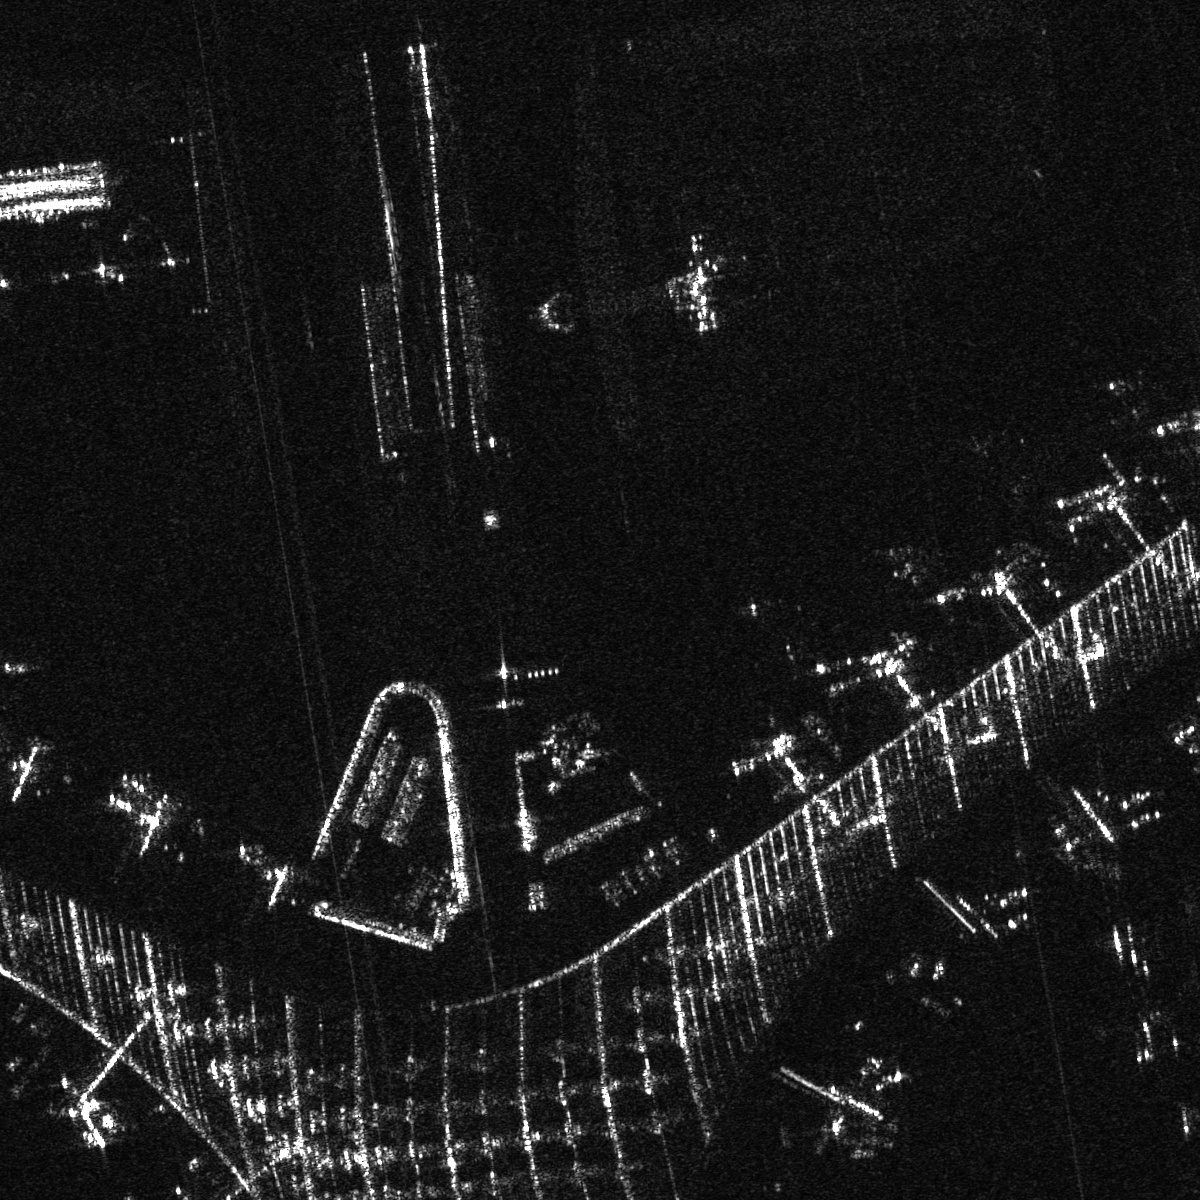A220: (1108, 378, 1162, 422)
